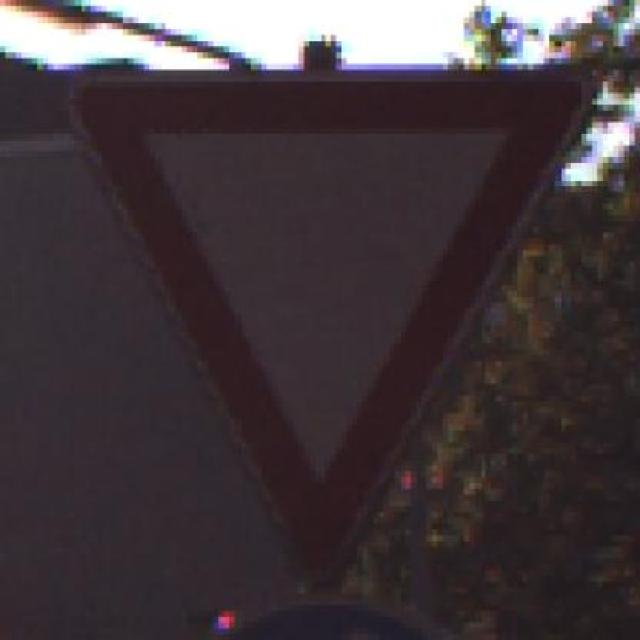Give Way: (91, 46, 592, 582)
